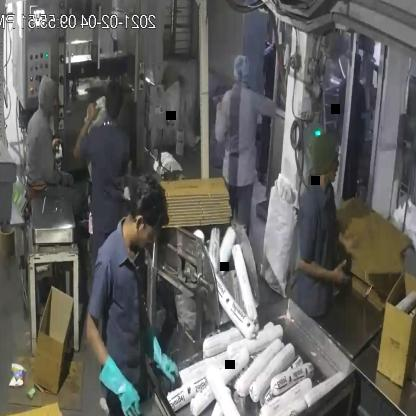glove: (136, 328, 184, 390), (96, 365, 142, 416)
no_glove: (64, 88, 101, 181), (297, 242, 354, 288)
